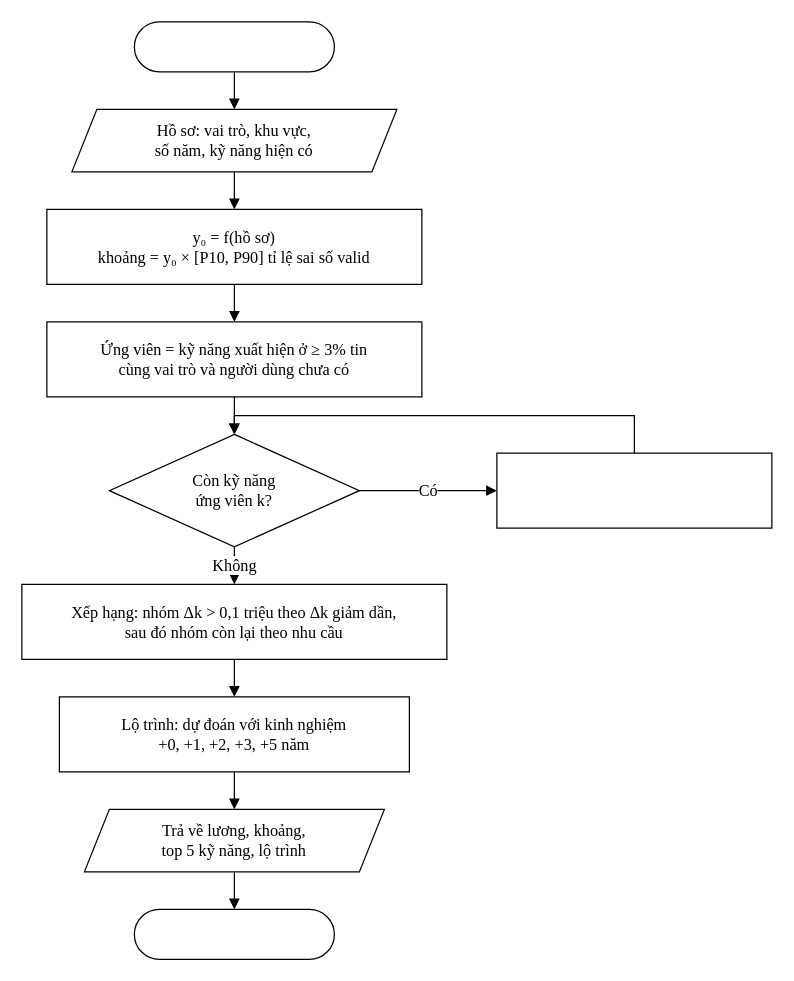
The diagram is 794 pixels wide and 981 high, and some of its shapes have lost their labels. Here are the shapes that lost their labels. From the top down, the box of each, then its label:
(133, 21, 334, 72): Bắt đầu
(496, 452, 772, 528): Δk = f(hồ sơ + k) − y₀ tỉ lệ nhu cầu của k
(133, 908, 334, 959): Kết thúc
